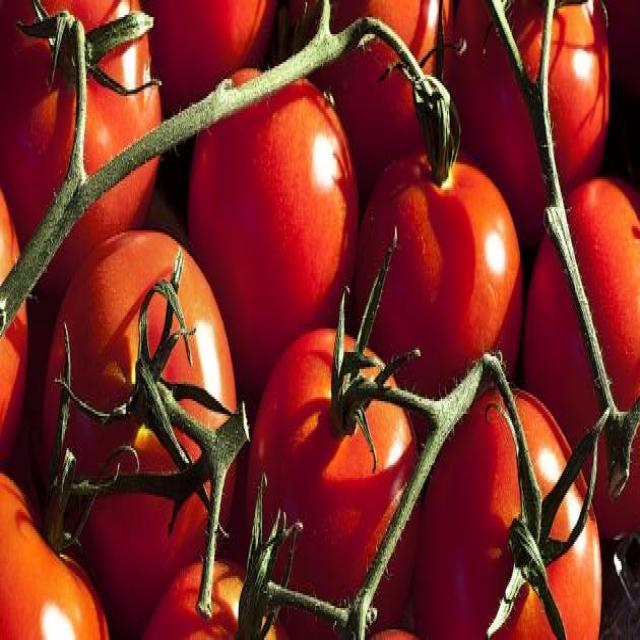kirmizi: (184, 66, 370, 342)
